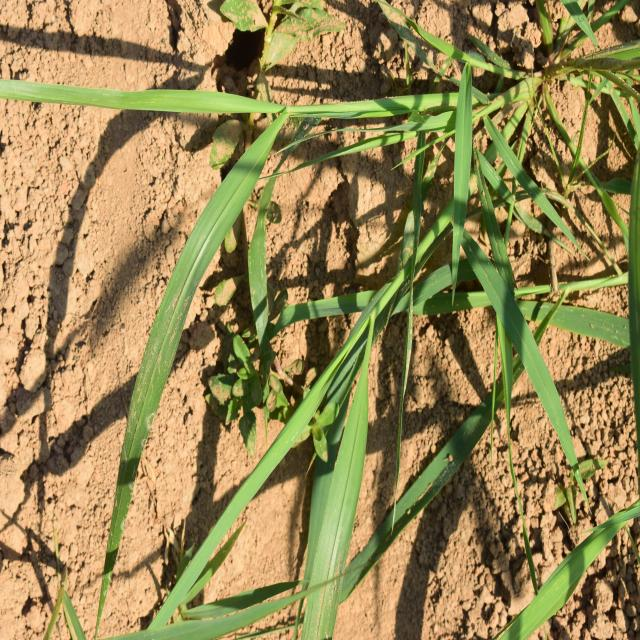green_foxtail: (28, 44, 490, 551)
